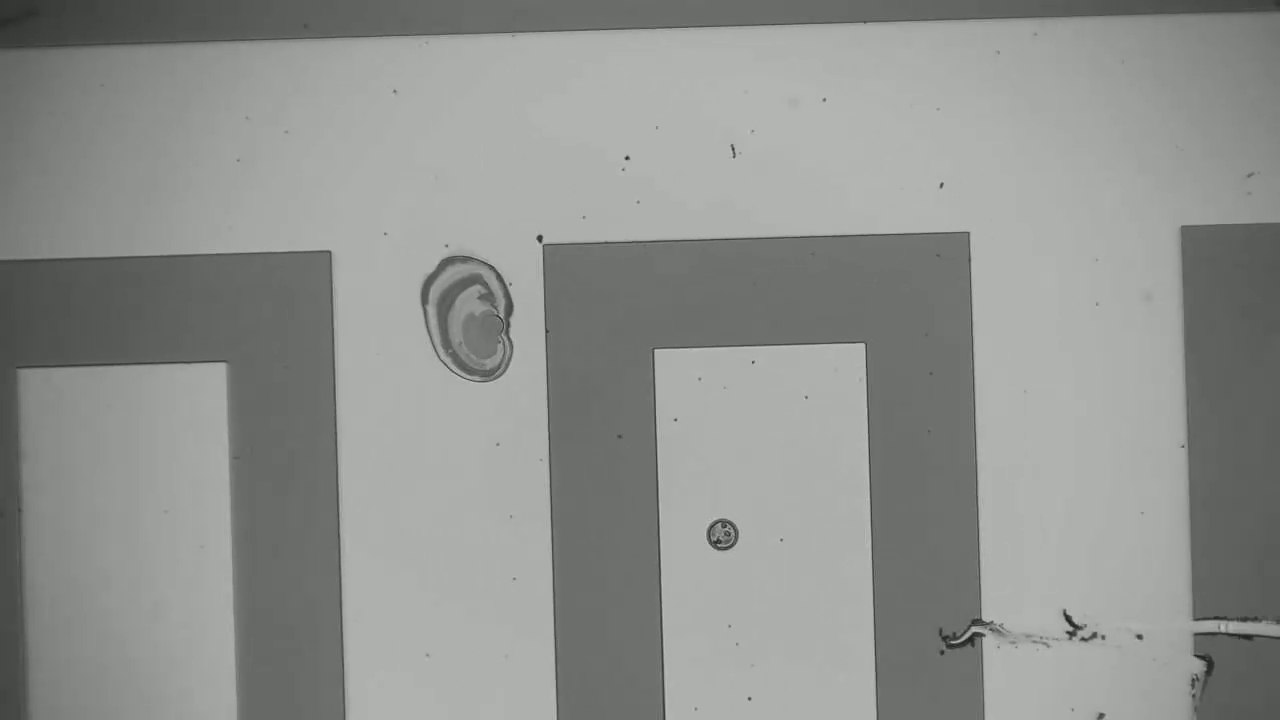Short_circuit: (1174, 592, 1280, 676)
